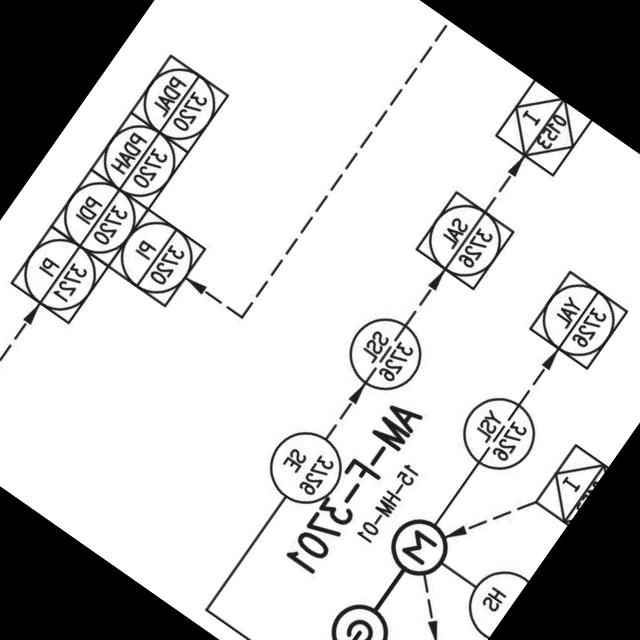RVM: (319, 507, 458, 640)
